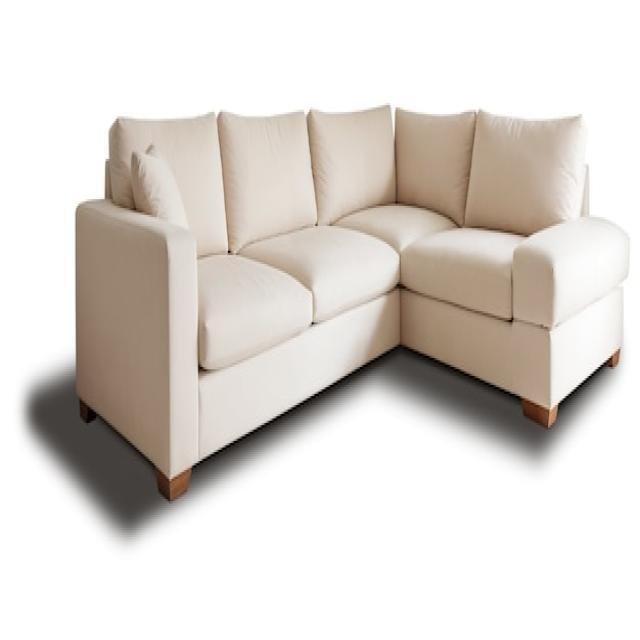sofa: (74, 100, 628, 502)
